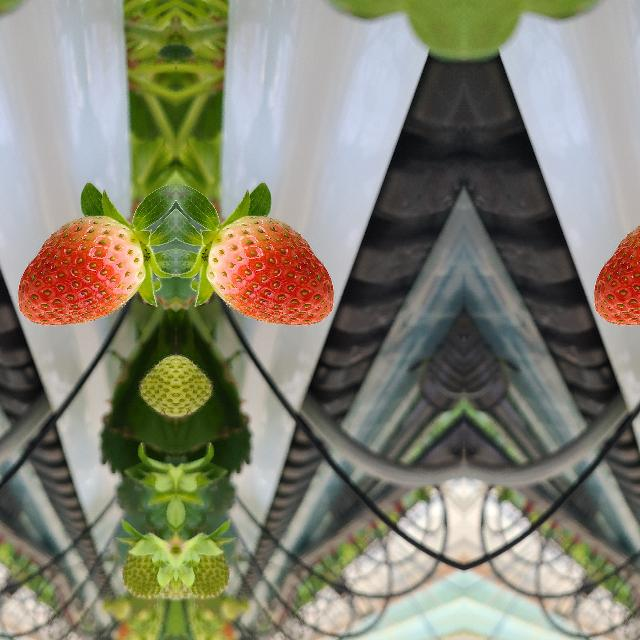Health_25: (175, 540, 237, 606), (113, 540, 175, 606), (136, 354, 176, 424), (174, 354, 213, 424)
Health_75: (18, 216, 146, 324), (205, 216, 332, 324), (594, 215, 640, 324)
